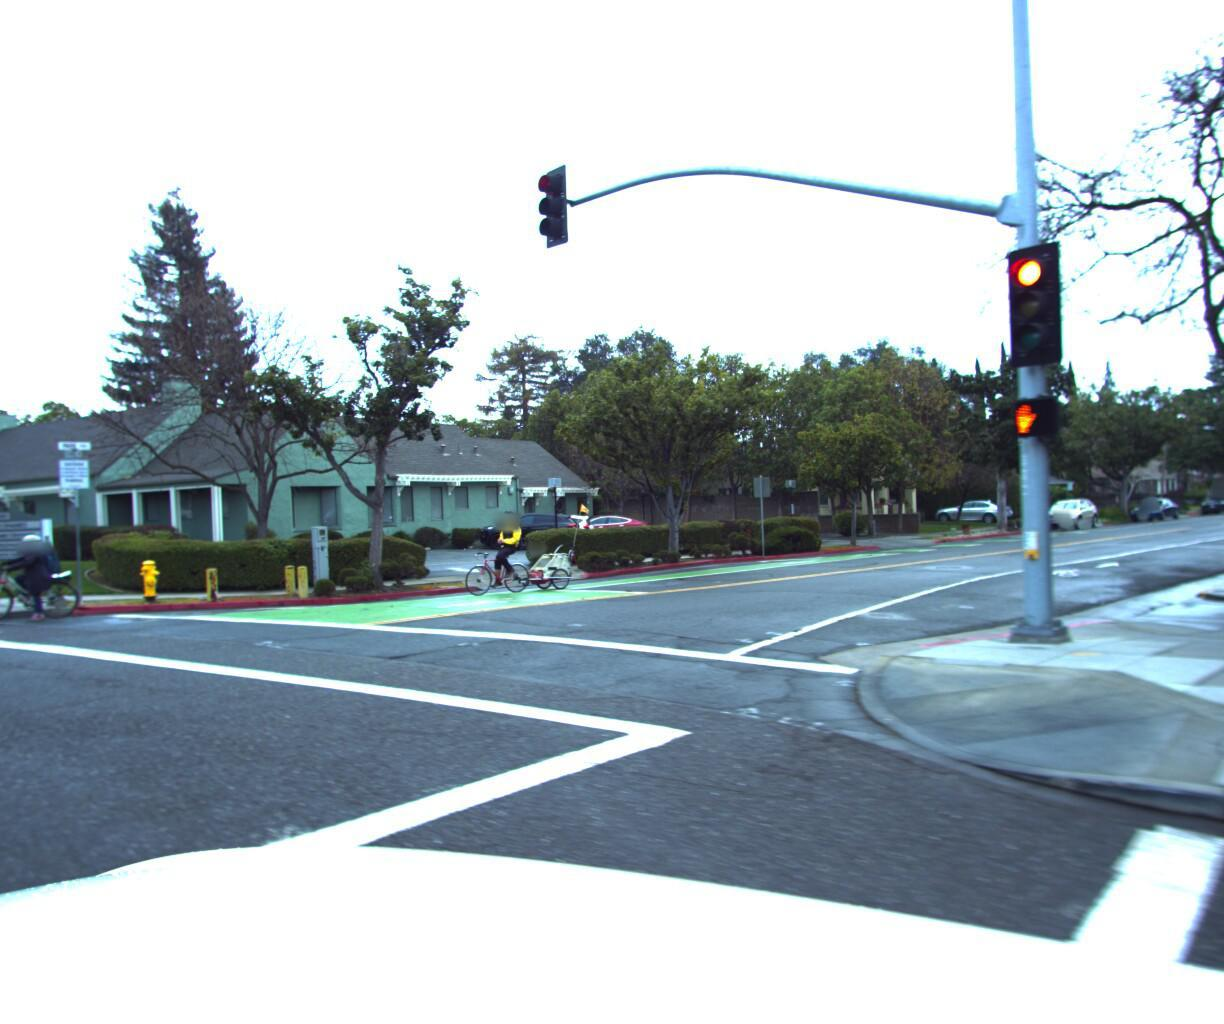bicycle: (443, 500, 603, 599), (0, 527, 98, 623)
car: (473, 504, 582, 548), (1032, 489, 1097, 526), (932, 489, 1014, 518), (1124, 487, 1176, 514), (1194, 483, 1224, 507)
